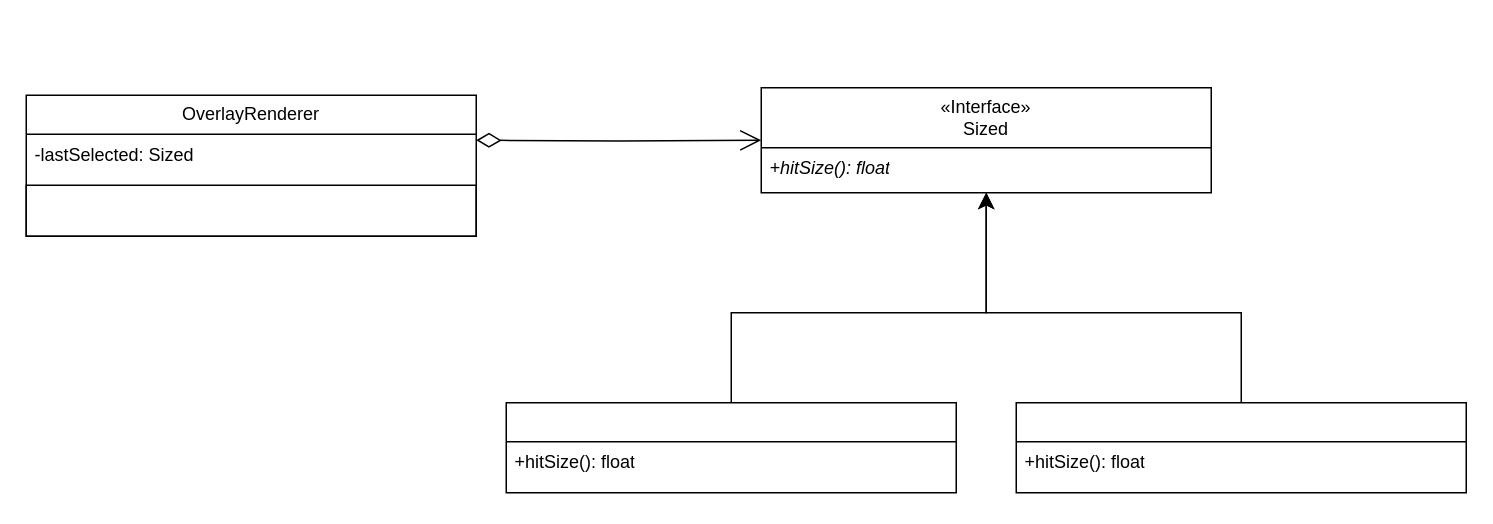
The diagram is 1493 pixels wide and 524 high, and some of its shapes have lost their labels. Here are the shapes that lost their labels. From the top down, the box of each, then its label:
(505, 401, 956, 493): HitboxComp
(1015, 401, 1466, 493): BuildingComp
